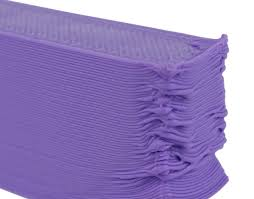fail: (136, 58, 193, 199), (207, 34, 239, 189)
